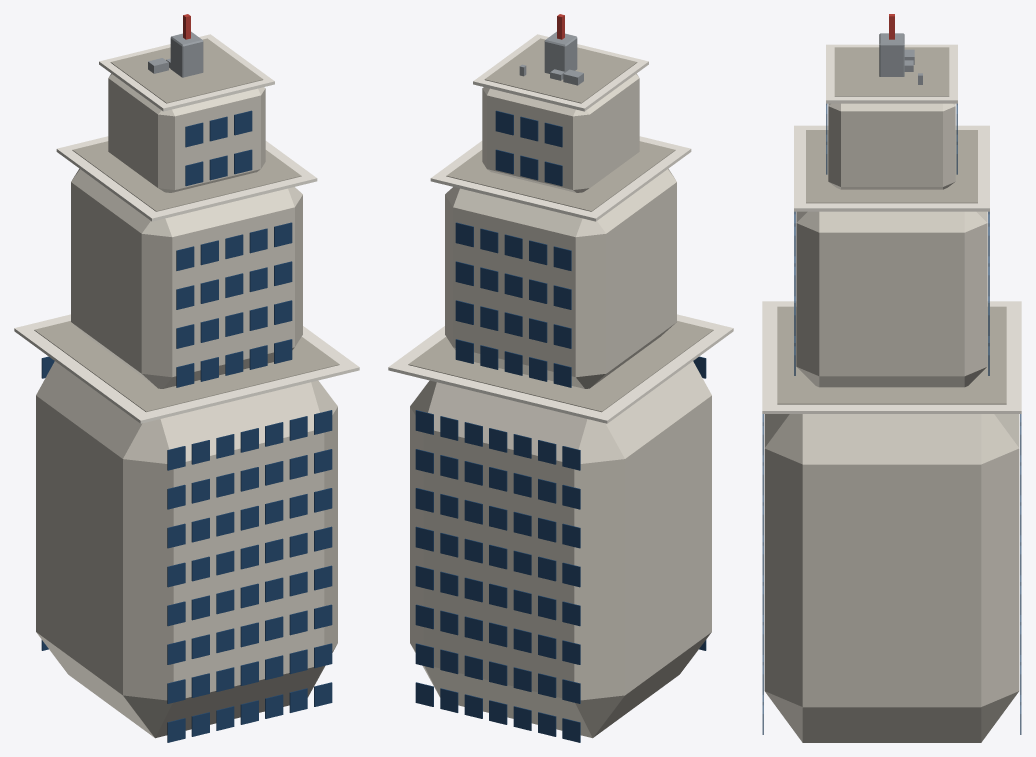
Rendered from tower_setback_h60.glb.
3 views of the same model, side by side, from view 1: azimuth 30°, elevation 25°; view 2: azimuth 150°, elevation 25°; view 3: azimuth 270°, elevation 25° (orthographic). The views are drawn at different scales.
Parts seen in each view (by area): view 1: t1, t2, t3, tierroof, tierlip, tierroof.001, tierroof.002, tierlip.001, tierlip.002, mast; view 2: t1, t2, t3, tierroof, tierlip, tierroof.001, tierroof.002, tierlip.001, tierlip.002, mast; view 3: t1, t2, t3, tierroof, tierlip, tierroof.001, tierroof.002, tierlip.001, tierlip.002, mast.
Boxes of the visible parts, box(x1,y1,x2,y2) form: t1: box(36, 361, 337, 738); t2: box(71, 168, 302, 388); t3: box(108, 73, 265, 192); tierroof: box(34, 321, 339, 412); tierlip: box(14, 314, 359, 423); tierroof.001: box(72, 141, 301, 211); tierroof.002: box(110, 38, 263, 103); tierlip.001: box(56, 136, 317, 221); tierlip.002: box(99, 34, 274, 111); mast: box(170, 31, 203, 77); t1: box(410, 361, 711, 738); t2: box(445, 168, 676, 388); t3: box(482, 73, 639, 192); tierroof: box(408, 321, 713, 412); tierlip: box(388, 314, 733, 423); tierroof.001: box(446, 141, 675, 211); tierroof.002: box(484, 38, 637, 103); tierlip.001: box(430, 136, 691, 221); tierlip.002: box(473, 34, 648, 111); mast: box(544, 31, 577, 73); t1: box(764, 414, 1019, 742); t2: box(796, 211, 987, 387); t3: box(828, 103, 955, 189); tierroof: box(777, 306, 1006, 404); tierlip: box(762, 301, 1021, 413); tierroof.001: box(806, 130, 977, 203); tierroof.002: box(834, 47, 949, 96); tierlip.001: box(794, 125, 989, 211); tierlip.002: box(826, 44, 957, 103); mast: box(879, 33, 904, 76).
Bounding box in the file's own units: 22.4 × 65.7 × 22.4.
